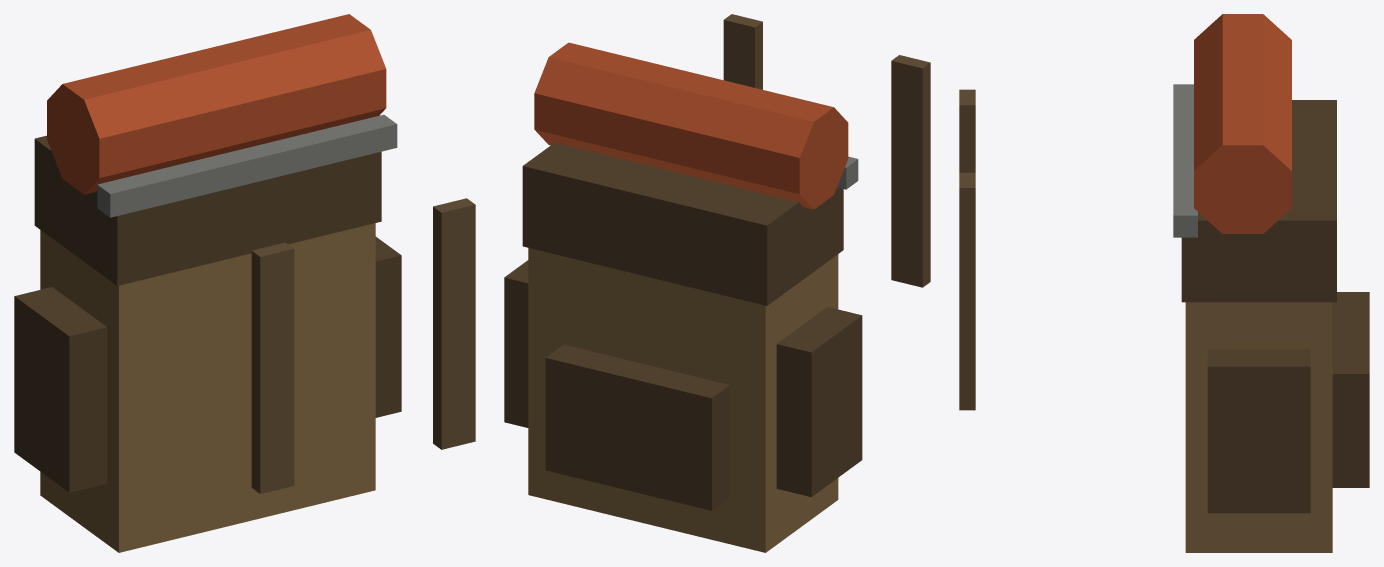
The model's file is gear_pack_military_ruck.glb.
3 renders of one model, left to right at view 1: azimuth 30°, elevation 25°; view 2: azimuth 150°, elevation 25°; view 3: azimuth 270°, elevation 25°, orthographic. The views are drawn at different scales.
Parts seen in each view (by area): view 1: pack, torso; view 2: pack, torso; view 3: pack, torso.
Part boxes in pixels (x1,y1,x2,y2): pack: [14, 14, 401, 552]; torso: [251, 198, 475, 493]; pack: [504, 42, 862, 552]; torso: [723, 14, 930, 287]; pack: [1173, 14, 1369, 552]; torso: [959, 89, 975, 410].
Bounding box in the file's own units: 0.44 × 0.5601 × 0.502.
